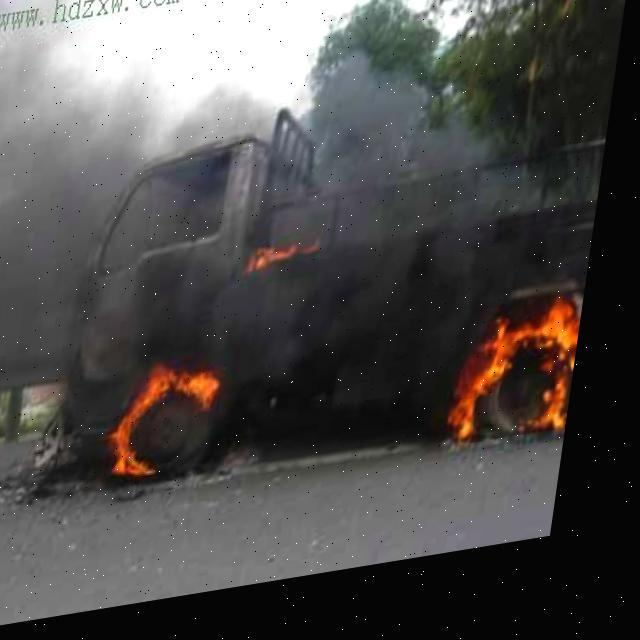Fire: (453, 306, 596, 468), (112, 352, 248, 497), (244, 232, 330, 298)
